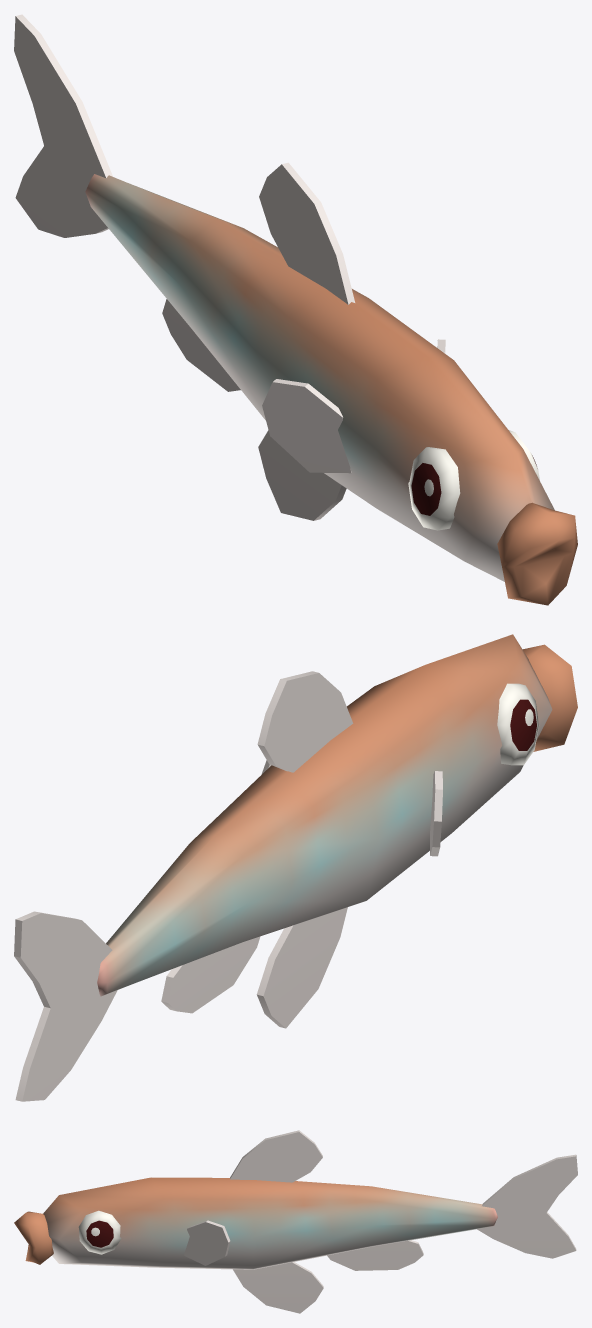
3 views of the same model, one above another, from view 1: azimuth 30°, elevation 25°; view 2: azimuth 150°, elevation 25°; view 3: azimuth 270°, elevation 25° (orthographic). The views are drawn at different scales.
Visible parts, largest first — view 1: Fish_PondSmelt; view 2: Fish_PondSmelt; view 3: Fish_PondSmelt.
Boxes of the visible parts, x1,y1,x2,y2 form: Fish_PondSmelt: (14, 14, 577, 605); Fish_PondSmelt: (14, 634, 577, 1101); Fish_PondSmelt: (14, 1130, 577, 1313).
Size of the model in its own units: 6.47 by 11.84 by 33.28.
